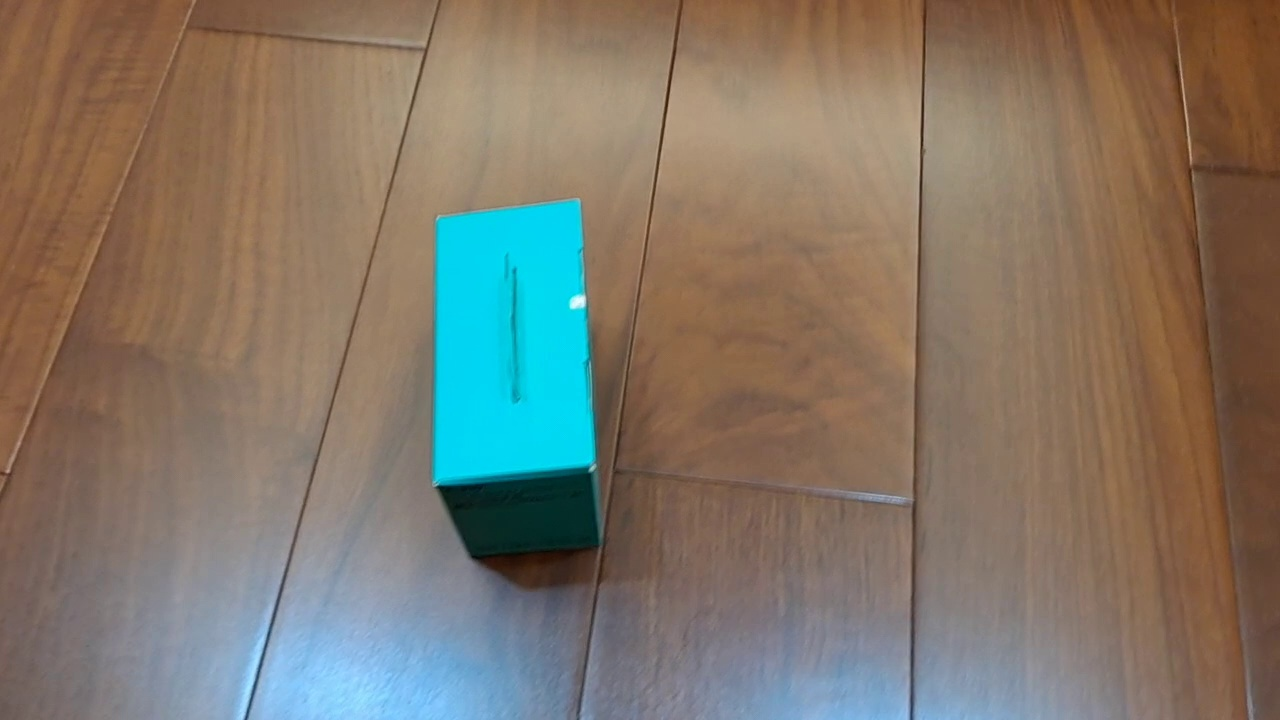webcam: (430, 196, 605, 561)
